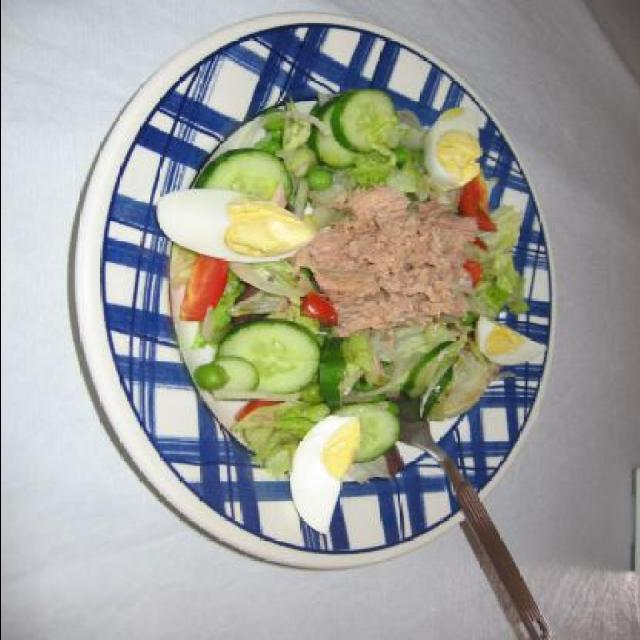Zucchini: (207, 315, 331, 407), (195, 142, 292, 208), (328, 78, 402, 154), (324, 403, 406, 463), (308, 333, 352, 415)
